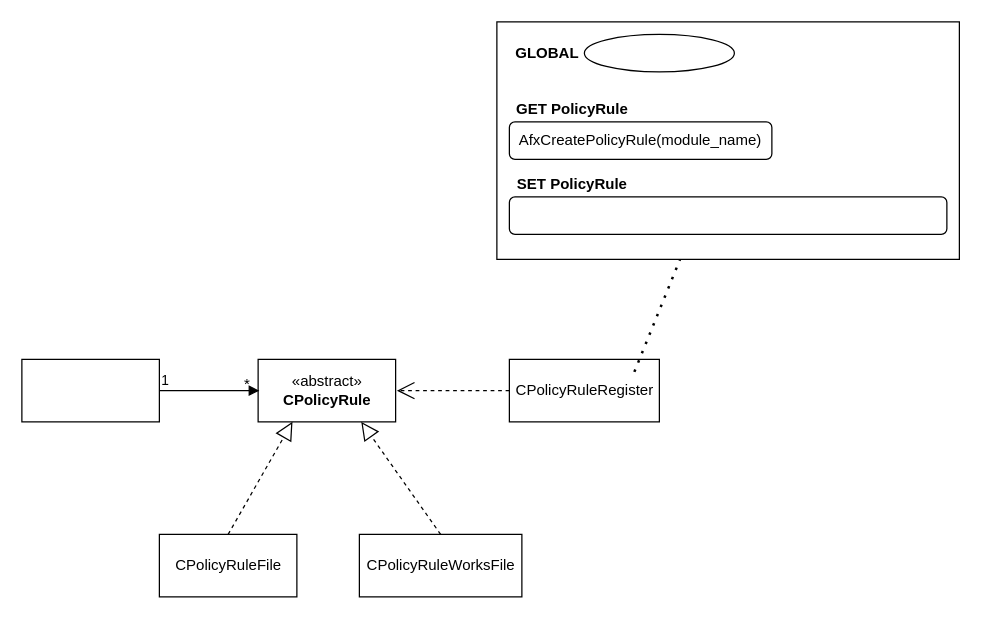
The diagram is 981 pixels wide and 619 high, and some of its shapes have lost their labels. Each missing label, with the centre of its shape:
"CPolicy" belongs at [90,390].
"g_policy_rule_map" belongs at [658,52].
"POLICY_RULE_REGISTER_CLS(module_name, *CPolicyRule)" belongs at [727,215].
